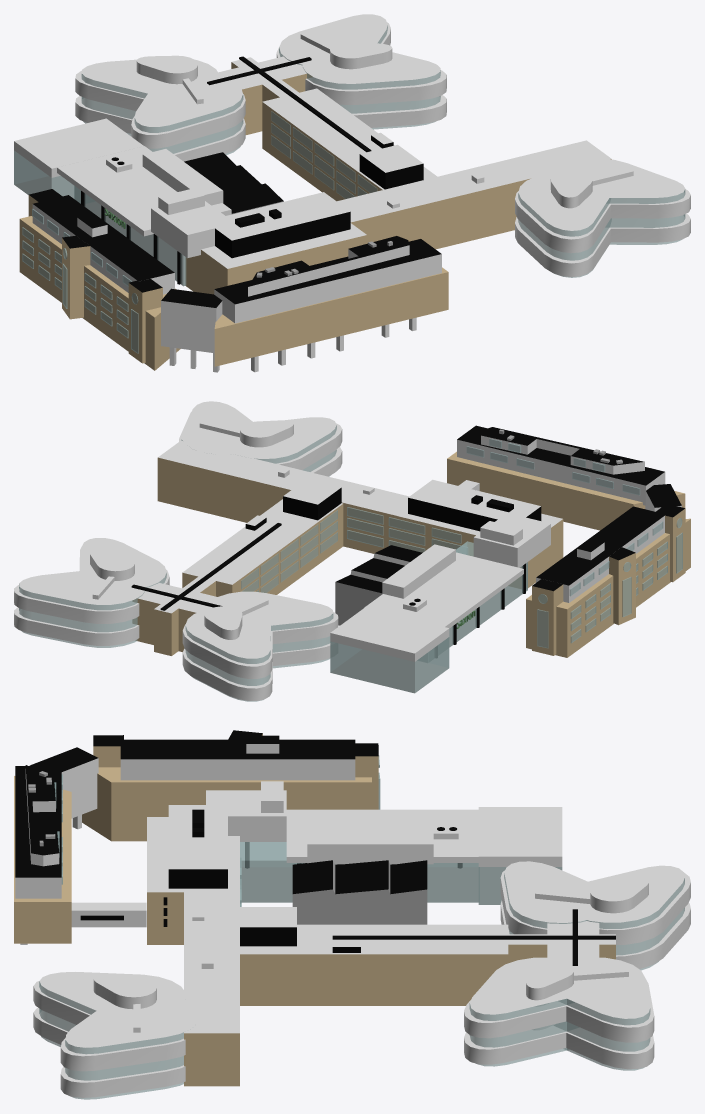
Rendered from SAXION MAIN.fbx.
The picture shows the model from 3 angles, top to bottom: view 1: azimuth 30°, elevation 25°; view 2: azimuth 150°, elevation 25°; view 3: azimuth 270°, elevation 25°; orthographic projection. The views are drawn at different scales.
Visible parts, largest first — view 1: polySurface483; view 2: polySurface483; view 3: polySurface483.
Part boxes in pixels (x1,y1,x2,y2): polySurface483: (14, 14, 690, 372); polySurface483: (14, 401, 690, 701); polySurface483: (14, 730, 690, 1099).
Size of the model in its own units: 359 by 53.81 by 346.
